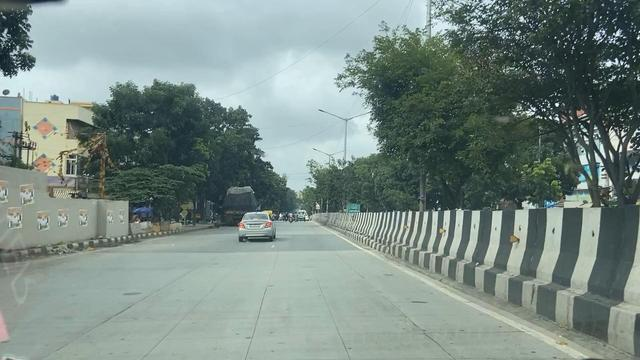LMV: (228, 205, 281, 246)
